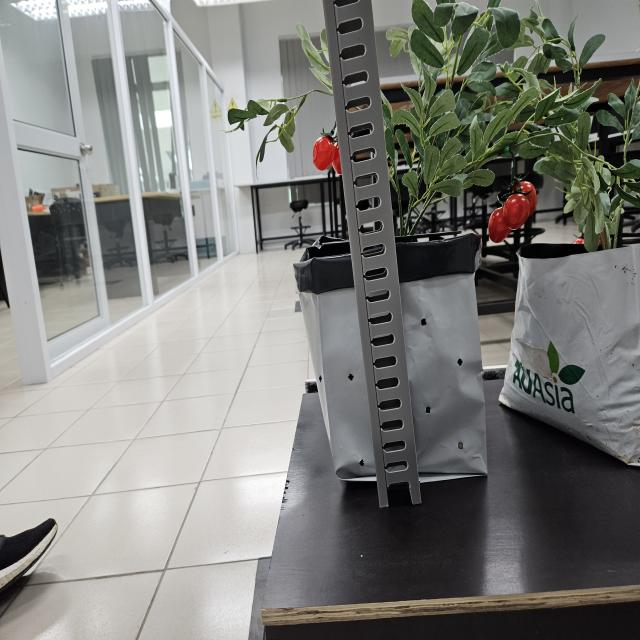Obstacle: (323, 0, 423, 510)
Soilbag: (499, 244, 640, 471), (400, 273, 488, 483), (299, 287, 376, 481)
Tomato: (488, 178, 539, 244), (312, 135, 341, 175)
plant: (228, 0, 606, 236), (521, 14, 640, 253)
